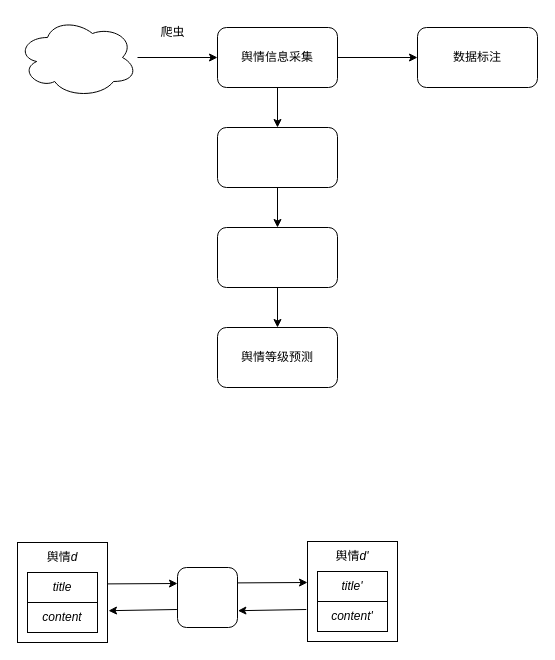
This 555x660 diagram has some shape labels left out. The shapes that lost their labels are listed below. From the top down, each one's centre as x and y in pixels, then its label:
point (77, 57): 互联网
point (277, 157): 数据预处理
point (277, 257): 数据增强
point (207, 597): 翻译软件
